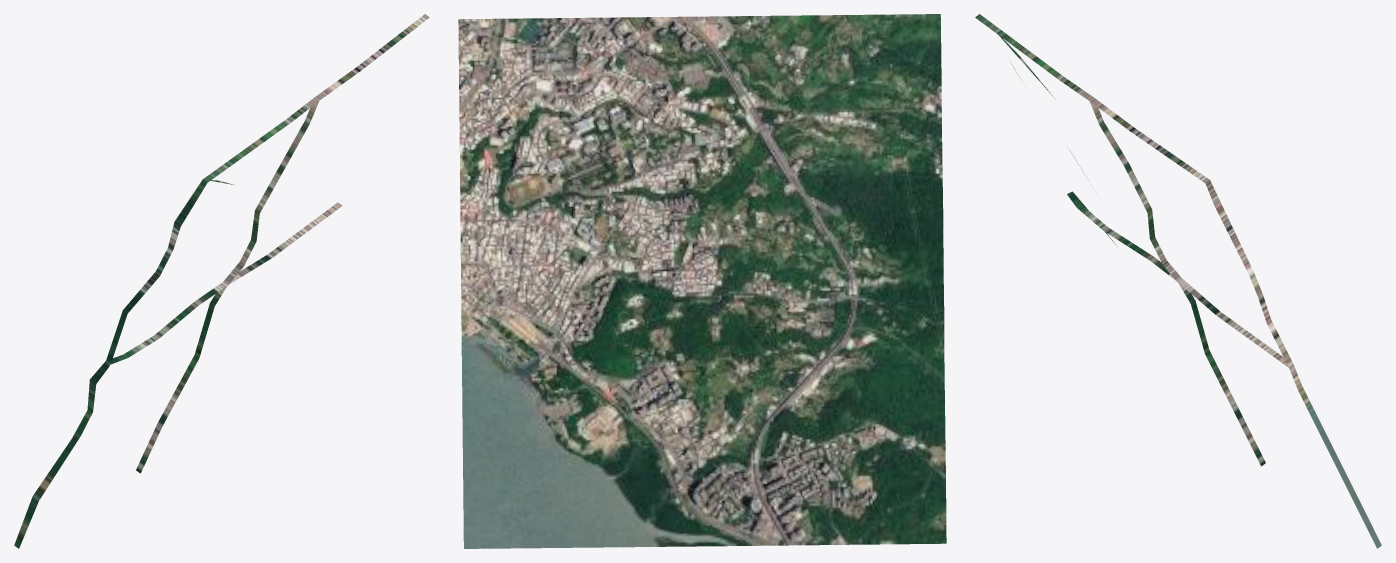
3 renders of one model, left to right at view 1: azimuth 30°, elevation 25°; view 2: azimuth 150°, elevation 25°; view 3: azimuth 270°, elevation 25°, orthographic. The views are drawn at different scales.
Bounding box in the file's own units: 2465 × 2251 × 2002.
1 material, 1 textured.
